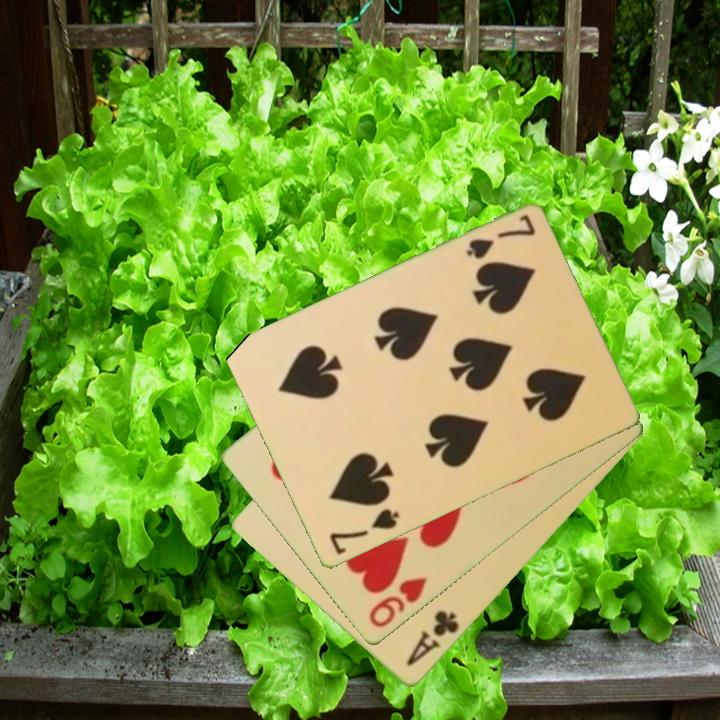7s: (325, 505, 402, 558), (462, 211, 538, 263)
9h: (365, 574, 431, 632)
Ac: (403, 607, 462, 670)
